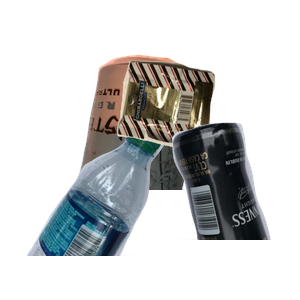glass: (106, 120, 300, 300)
metal: (73, 52, 263, 232)
plastic: (24, 120, 182, 300)
trash: (115, 58, 300, 200)
